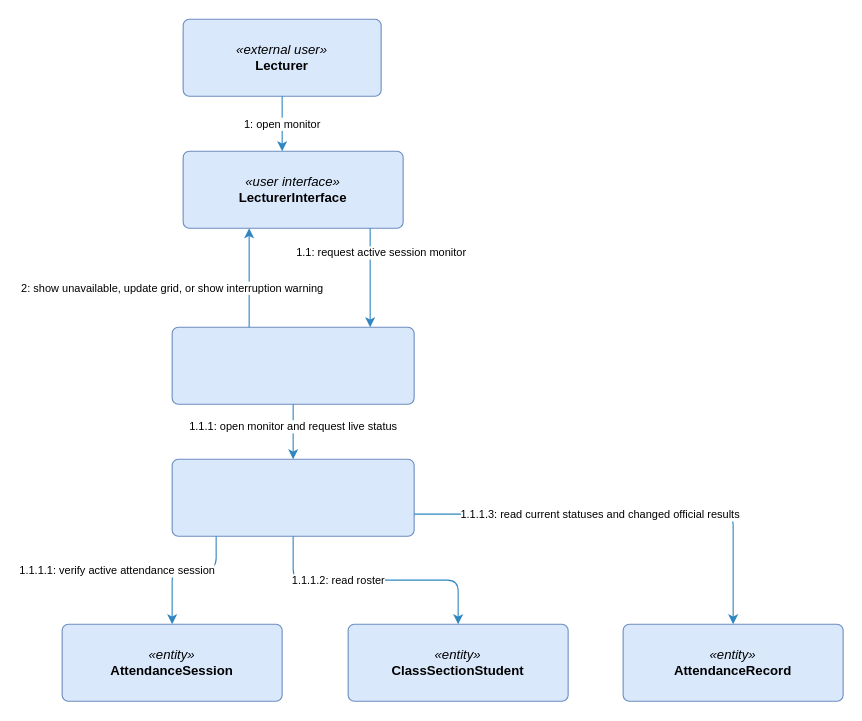
Image size: 862x721. Some labels were removed from this diagram. Each missing label, with the box of its shape:
«business logic» AttendanceSessionRules: (171, 458, 414, 536)
«coordinator» AttendanceCoordinator: (171, 326, 414, 404)
